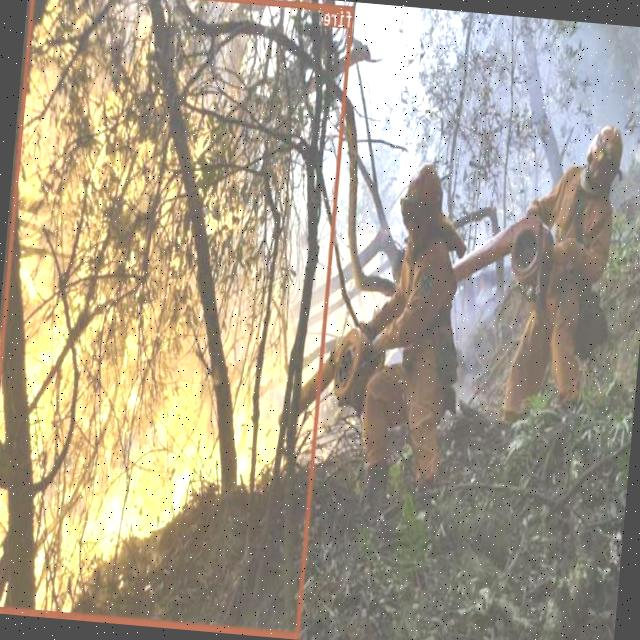fire: (0, 0, 353, 636)
